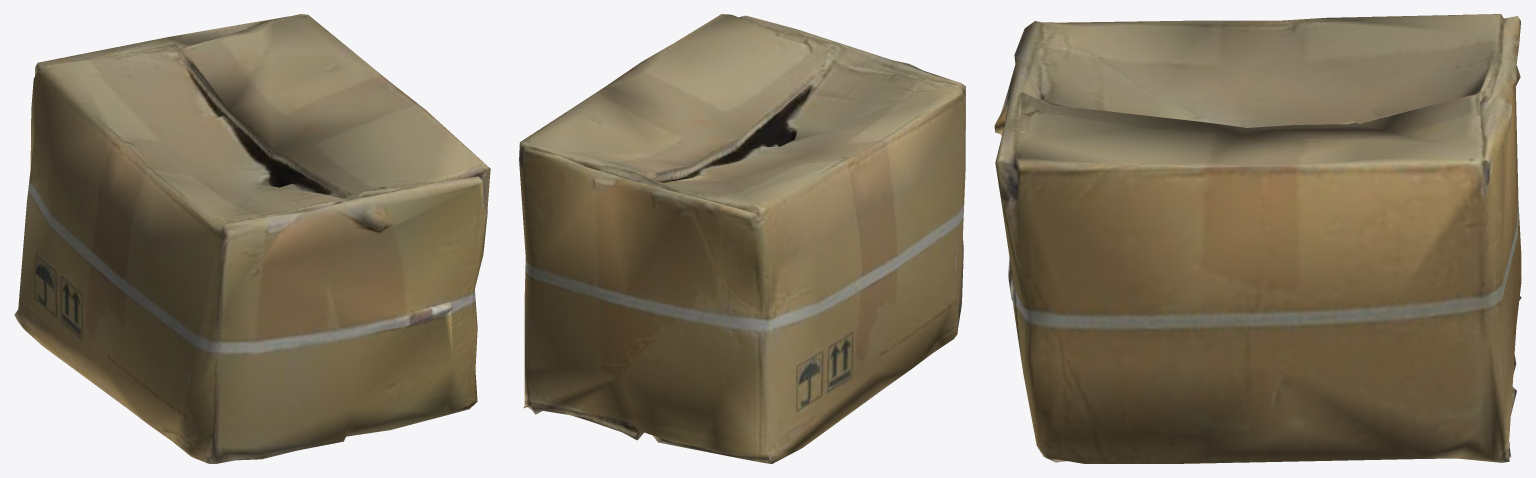
File: cardboard_box_01.glb
3 renders of one model, left to right at view 1: azimuth 30°, elevation 25°; view 2: azimuth 150°, elevation 25°; view 3: azimuth 270°, elevation 25°, orthographic. The views are drawn at different scales.
Parts seen in each view (by area): view 1: cardboard_box_01; view 2: cardboard_box_01; view 3: cardboard_box_01.
Part boxes in pixels (x1,y1,x2,y2): cardboard_box_01: (14,14,490,463); cardboard_box_01: (519,14,965,463); cardboard_box_01: (994,14,1521,463).
Size of the model in its own units: 0.3833 by 0.3403 by 0.5159.
1 material, 1 textured.
